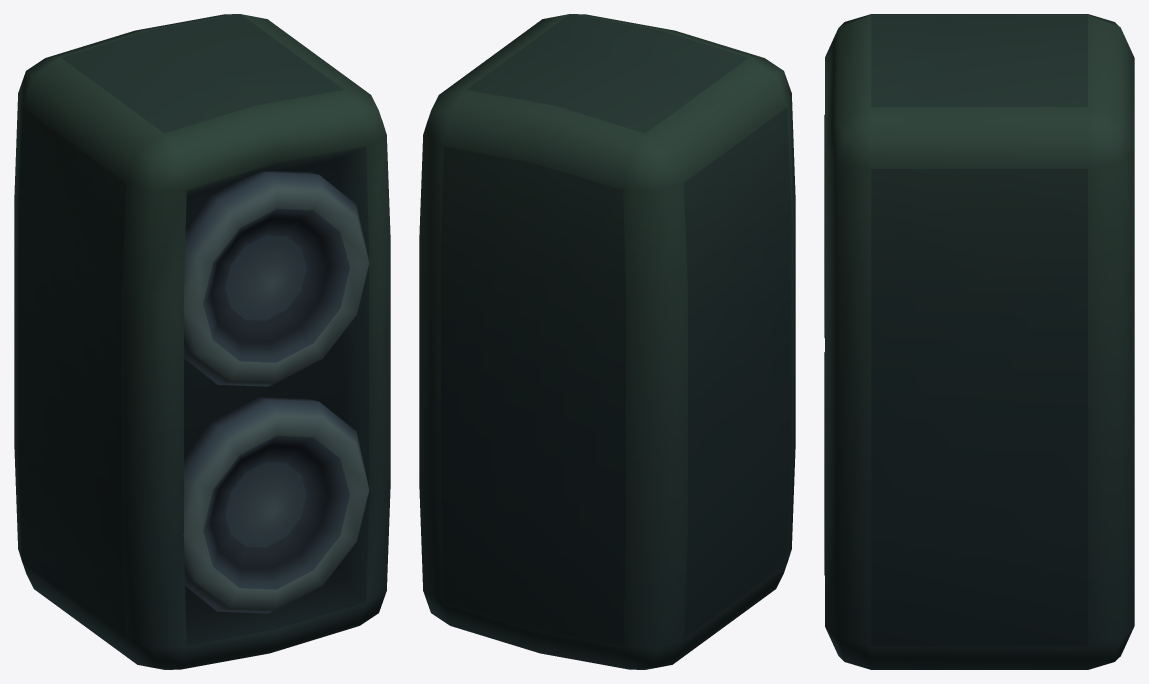
File: speaker_LOD_setup.fbx
The picture shows the model from 3 angles, left to right: view 1: azimuth 30°, elevation 25°; view 2: azimuth 150°, elevation 25°; view 3: azimuth 270°, elevation 25°; orthographic projection. The views are drawn at different scales.
Parts seen in each view (by area): view 1: speaker_LOD0; view 2: speaker_LOD0; view 3: speaker_LOD0.
Boxes of the visible parts, x1,y1,x2,y2 form: speaker_LOD0: [14, 14, 390, 669]; speaker_LOD0: [419, 14, 795, 669]; speaker_LOD0: [824, 14, 1134, 669].
Size of what is drawn, in the model's own units: 51.63 by 102 by 50.06.
